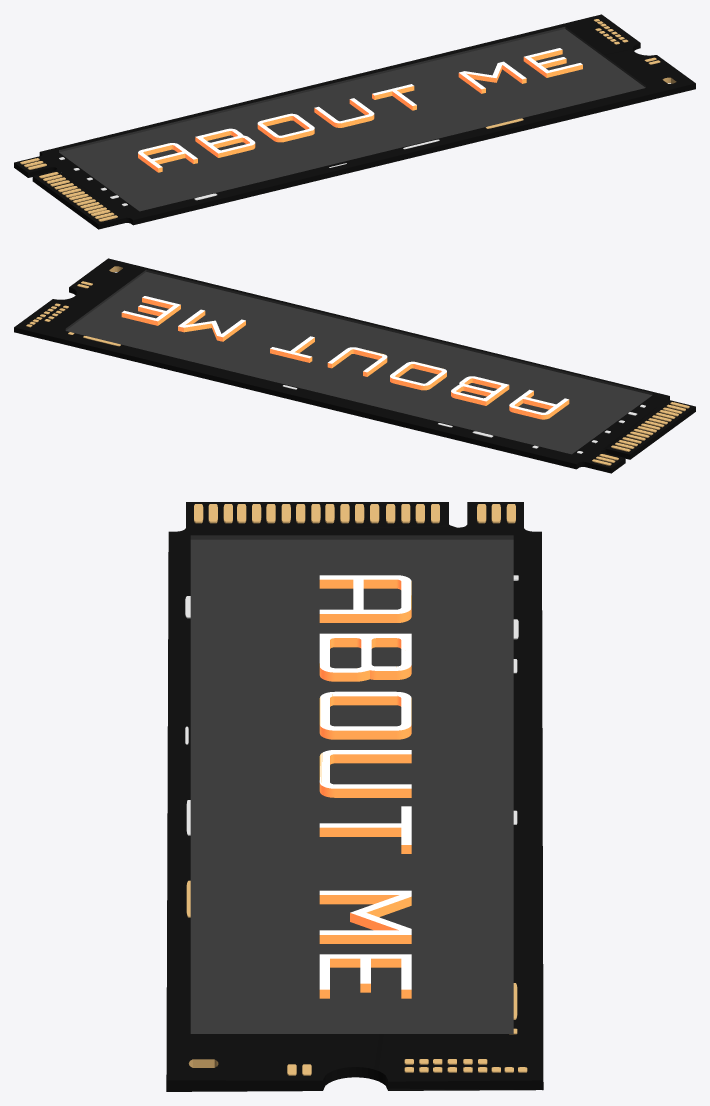
Rendered from aboutme.glb.
The picture shows the model from 3 angles, top to bottom: view 1: azimuth 30°, elevation 25°; view 2: azimuth 150°, elevation 25°; view 3: azimuth 270°, elevation 25°; orthographic projection. The views are drawn at different scales.
Parts seen in each view (by area): view 1: Text.009; view 2: Text.009; view 3: Text.009.
Part boxes in pixels (x1=…): Text.009: x1=14, y1=14, x2=695, y2=229; Text.009: x1=14, y1=258, x2=695, y2=473; Text.009: x1=166, y1=502, x2=543, y2=1091.
Bounding box in the file's own units: 30.01 × 0.7119 × 8.27.
